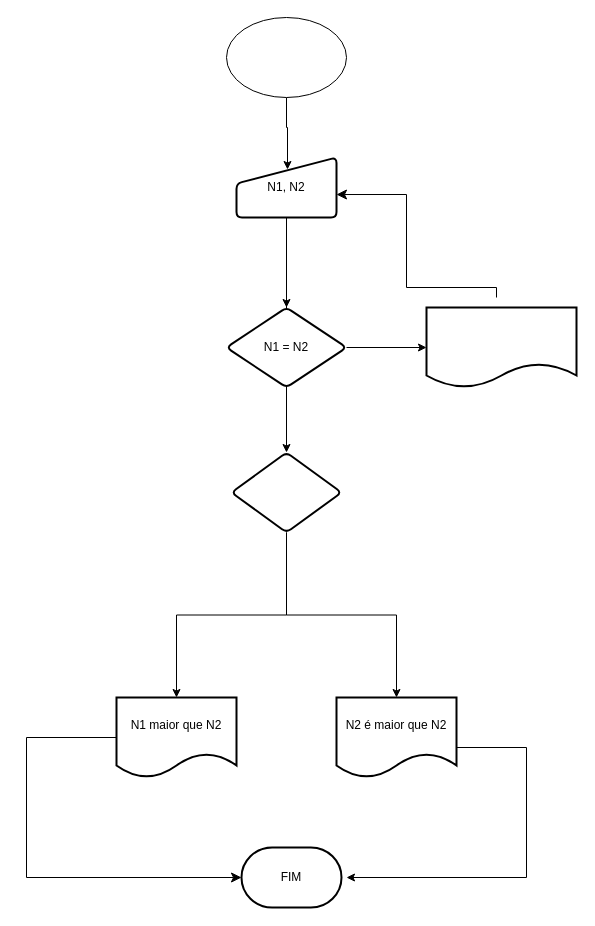
Some shapes in this 595 by 926 pixel diagram are drawn without their labels. The centre of each missing label's shape, as x and y in pixels:
"Inicio" belongs at point (286, 57).
"N1 > N2" belongs at point (286, 492).
"NÃO PODE NÚMERO REPETIDO" belongs at point (501, 347).
